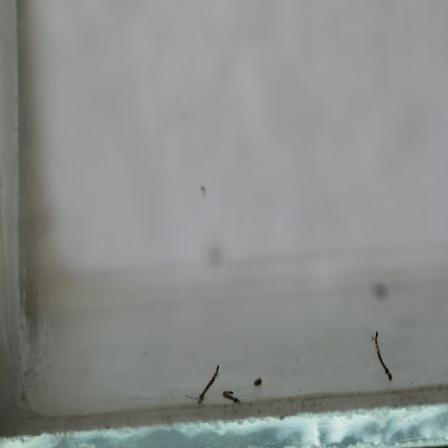Jentik-Nyamuk: (369, 330, 394, 382), (196, 361, 221, 408), (222, 389, 243, 407)
